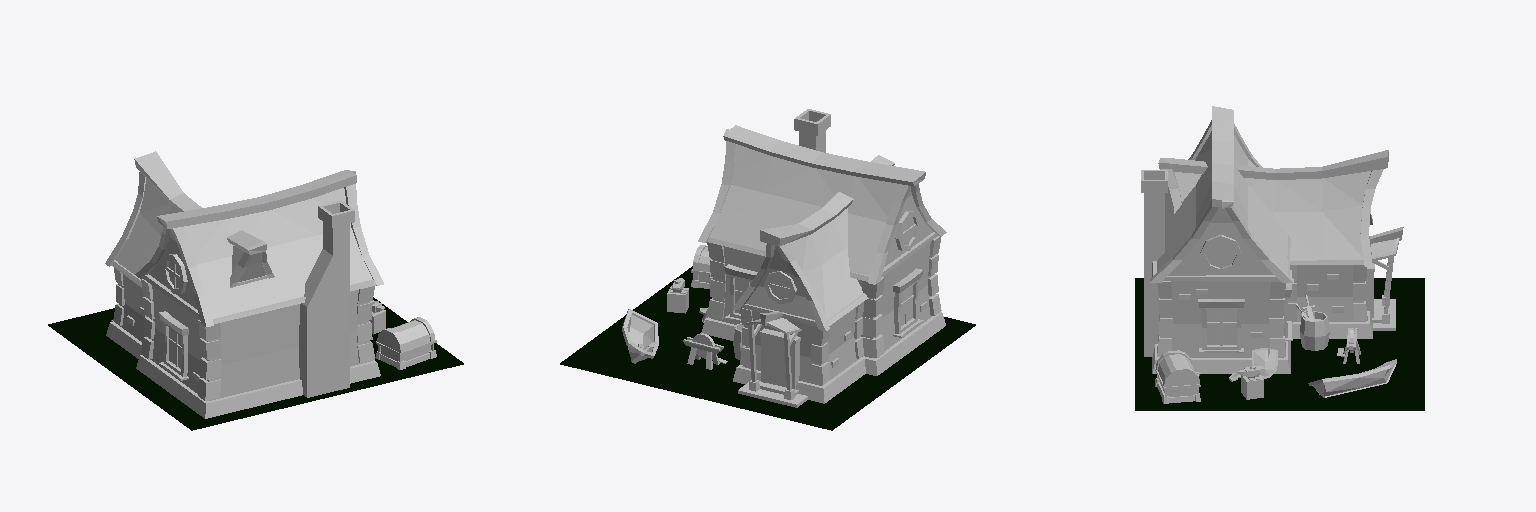
File: house.obj
3 views of the same model, side by side, from view 1: azimuth 30°, elevation 25°; view 2: azimuth 150°, elevation 25°; view 3: azimuth 270°, elevation 25° (orthographic).
Parts seen in each view (by area): view 1: House_Plane.032, Ground_Plane.001; view 2: House_Plane.032, Ground_Plane.001; view 3: House_Plane.032, Ground_Plane.001.
Boxes of the visible parts, x1=… form: House_Plane.032: x1=105, y1=151, x2=436, y2=418; Ground_Plane.001: x1=48, y1=297, x2=463, y2=430; House_Plane.032: x1=622, y1=109, x2=946, y2=407; Ground_Plane.001: x1=560, y1=266, x2=975, y2=430; House_Plane.032: x1=1141, y1=106, x2=1403, y2=403; Ground_Plane.001: x1=1135, y1=278, x2=1424, y2=410.
Bounding box in the file's own units: 13.98 × 8.74 × 12.84.